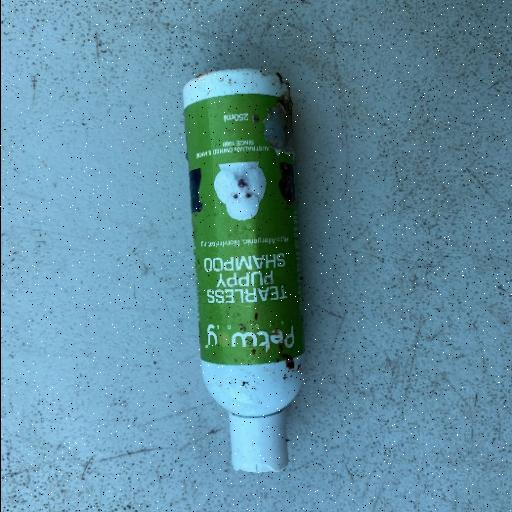Plastic: (179, 64, 309, 474)
